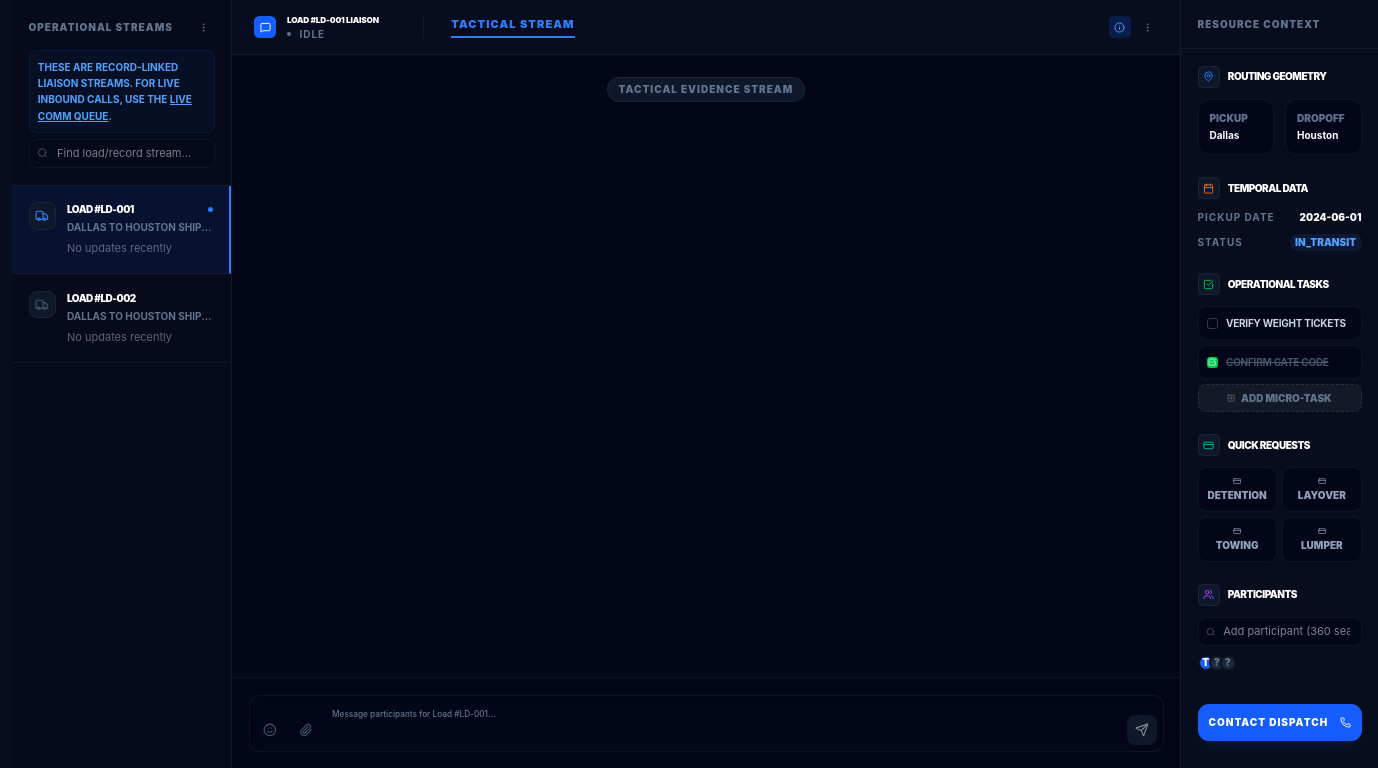
OperationalMessaging component › selects a different thread when clicked
Note: Click the second thread
Click the text "Load #LD-002" at point(101, 298), box [67, 291, 136, 306]
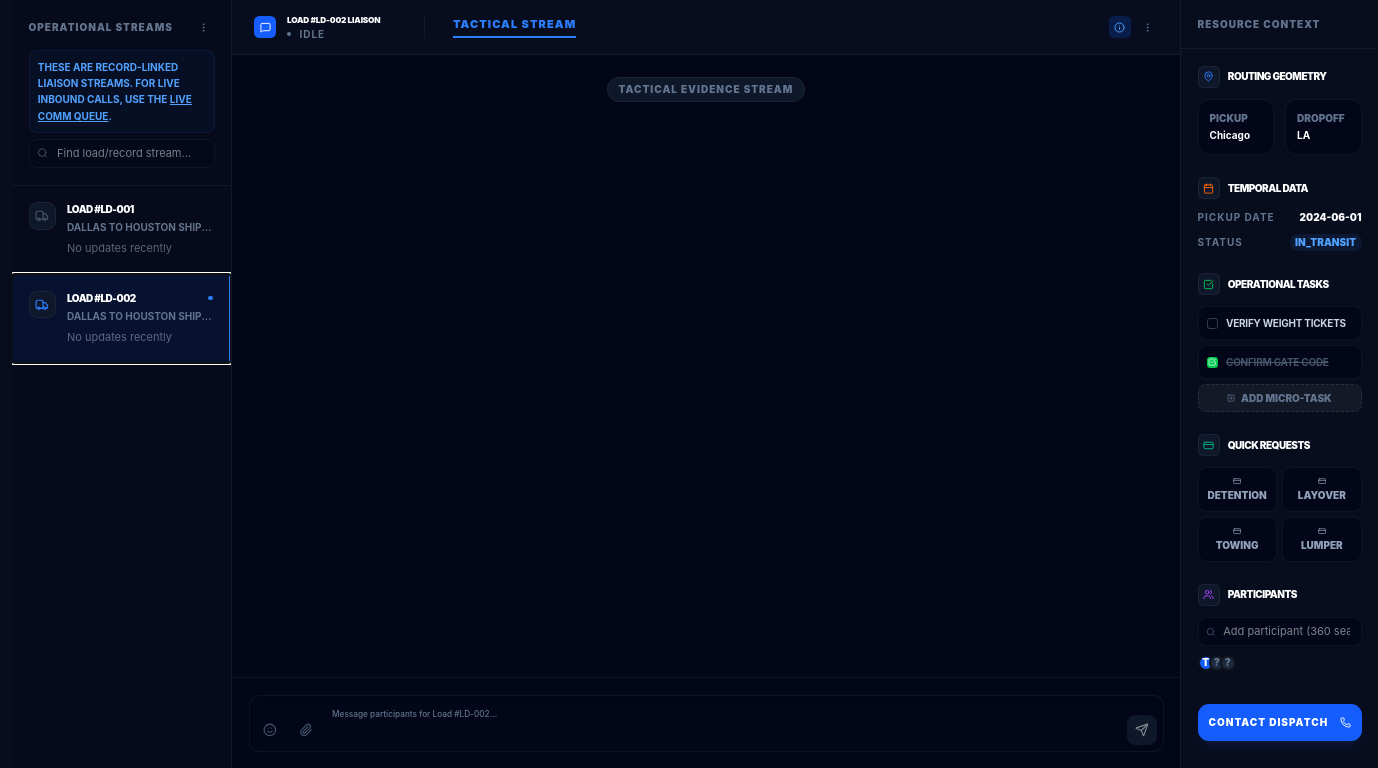
expect the heading "Load #LD-002 Liaison" is shown: met, box [287, 15, 380, 26]
